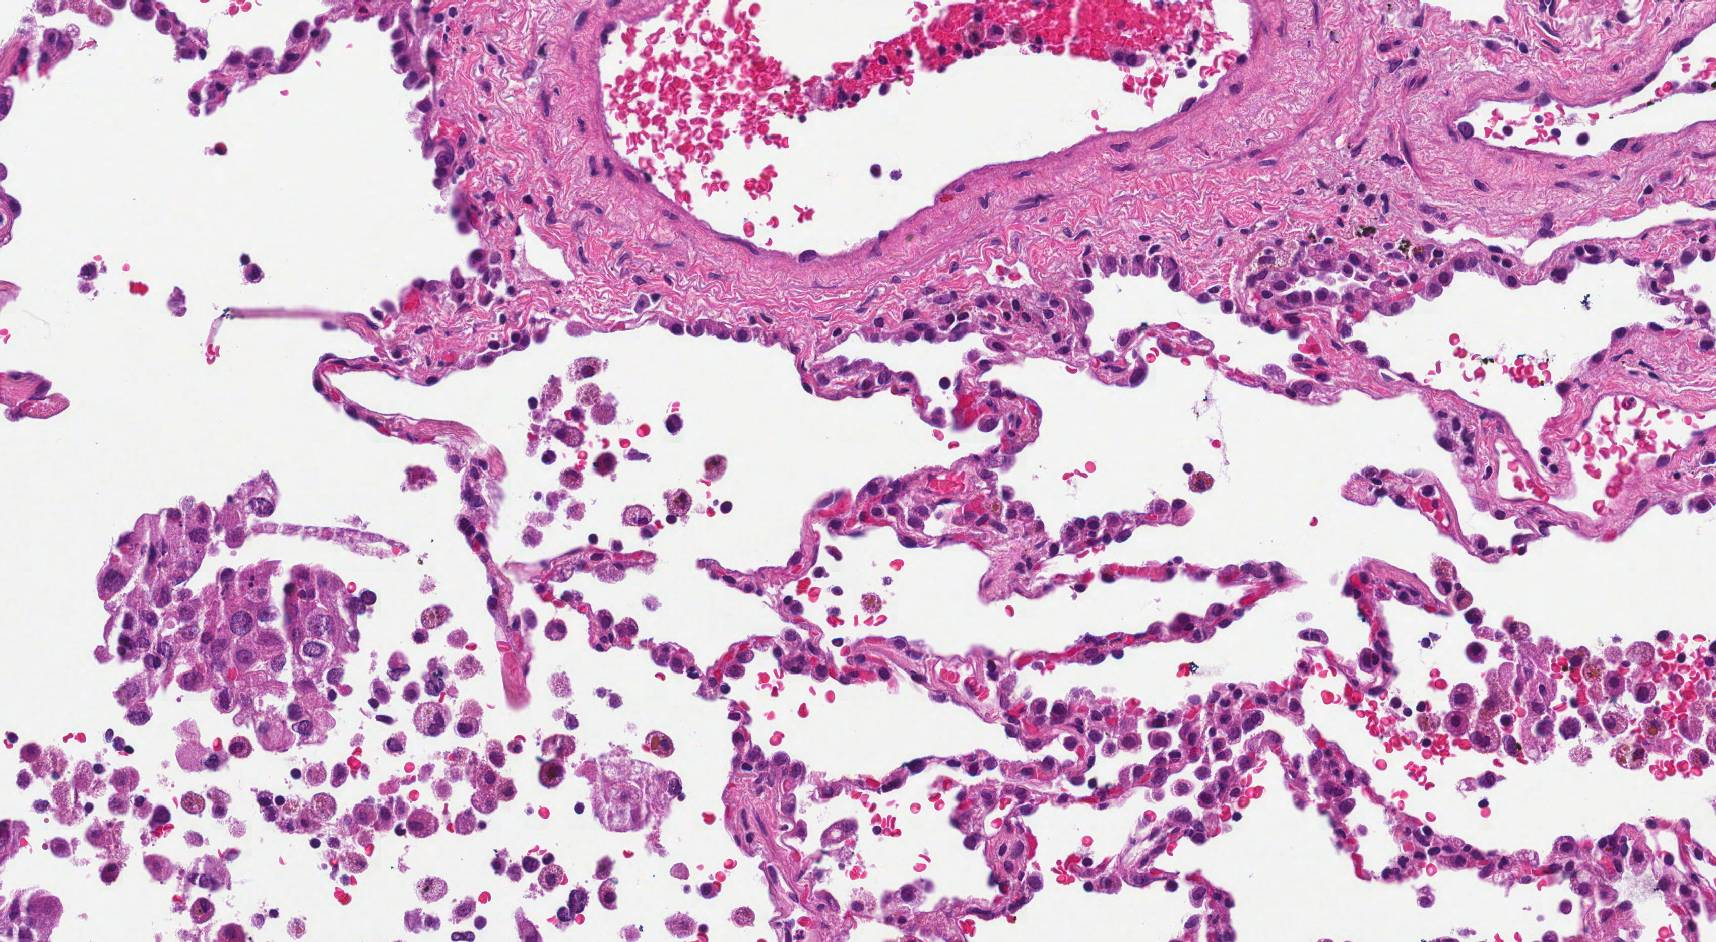stas: (91, 471, 360, 757)
